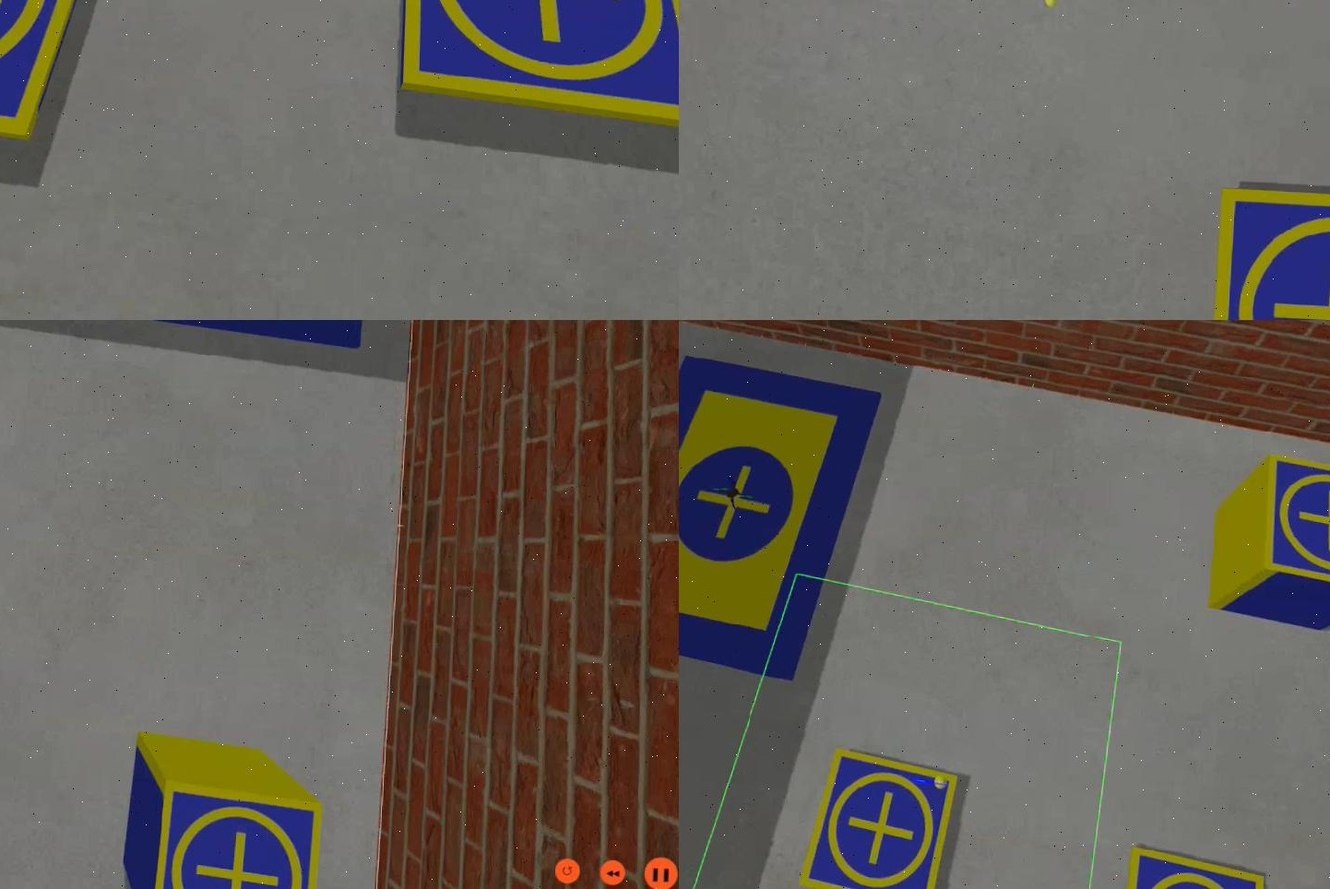large_base: (678, 352, 885, 680)
small_base: (391, 1, 678, 130), (797, 747, 958, 889), (147, 776, 321, 889), (1208, 189, 1328, 321), (1257, 455, 1328, 602), (1120, 846, 1264, 889)
